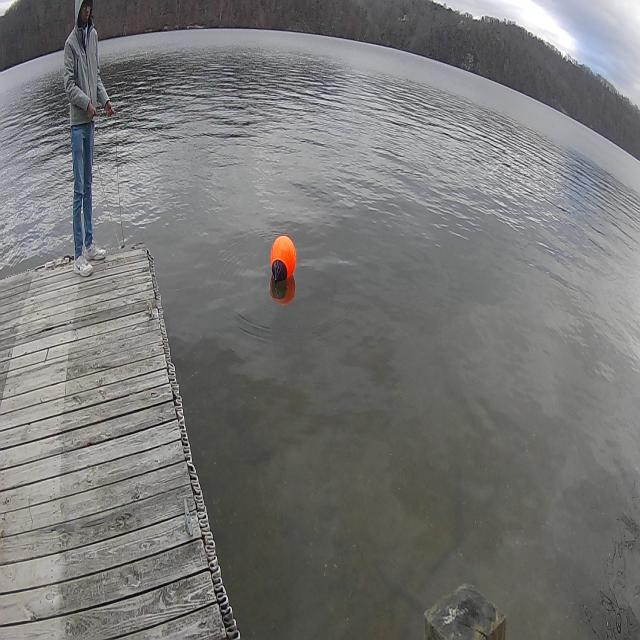Buoy: (268, 230, 298, 283)
